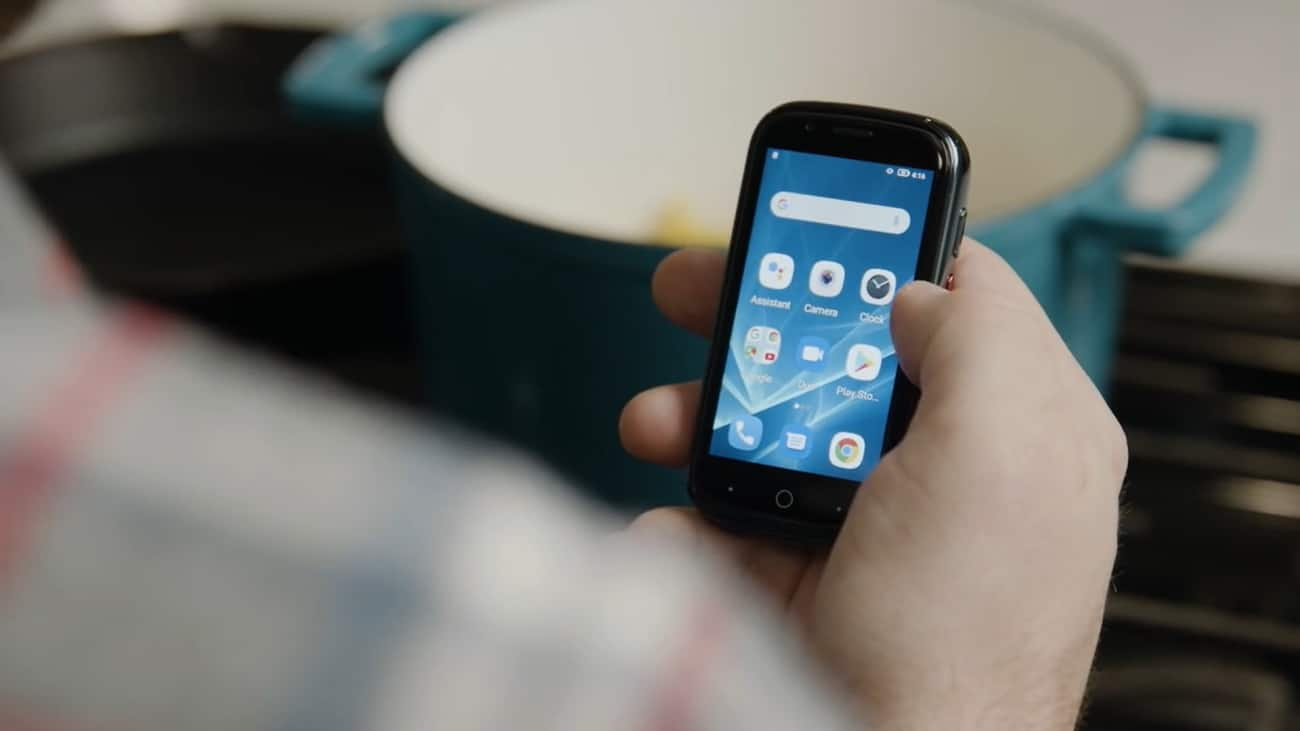Phone: (683, 99, 973, 554)
